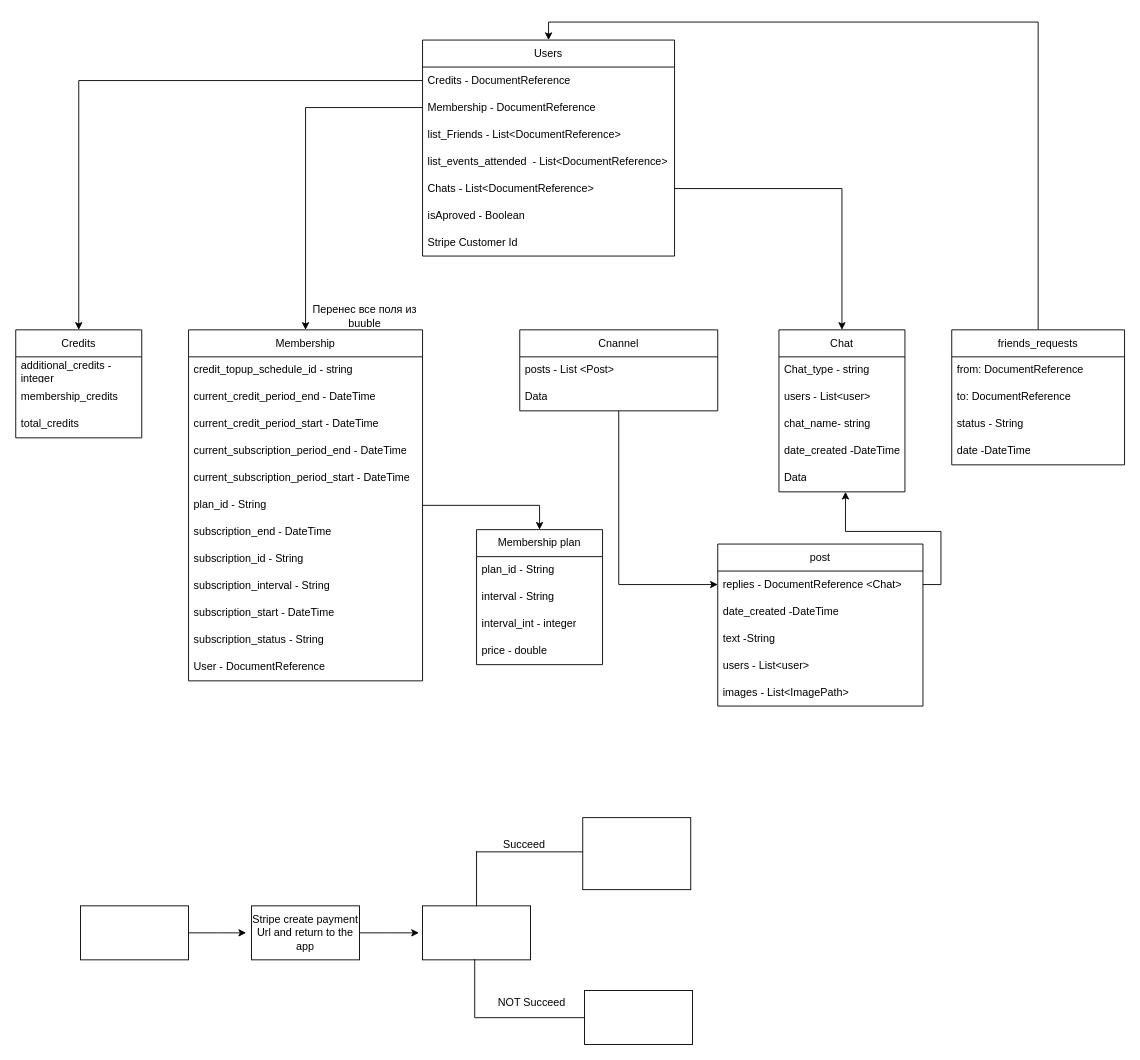
This 1140x1060 diagram has some shape labels left out. Each missing label, with the centre of its shape:
Created membership doc in FB, users "is_member = true" + UI succeed: (636,853)
Get membership (app): (134,932)
UI error: (638,1017)
Users get URL and have to paymetn it: (476,932)
